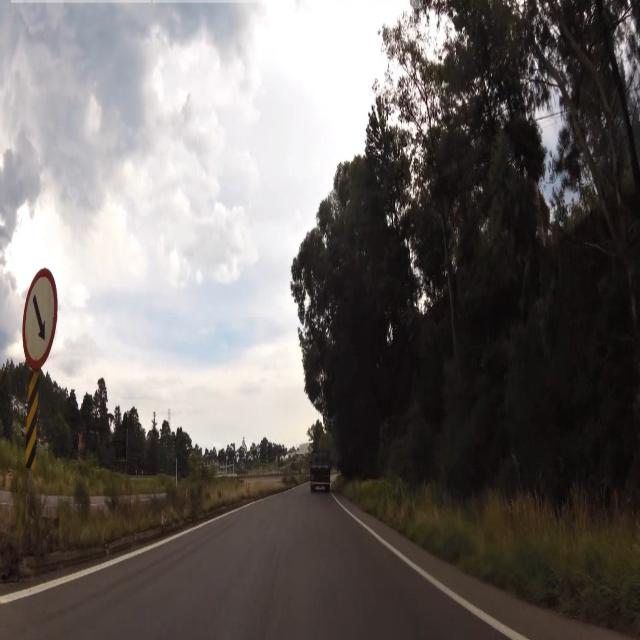R-24b: (20, 265, 60, 374)
